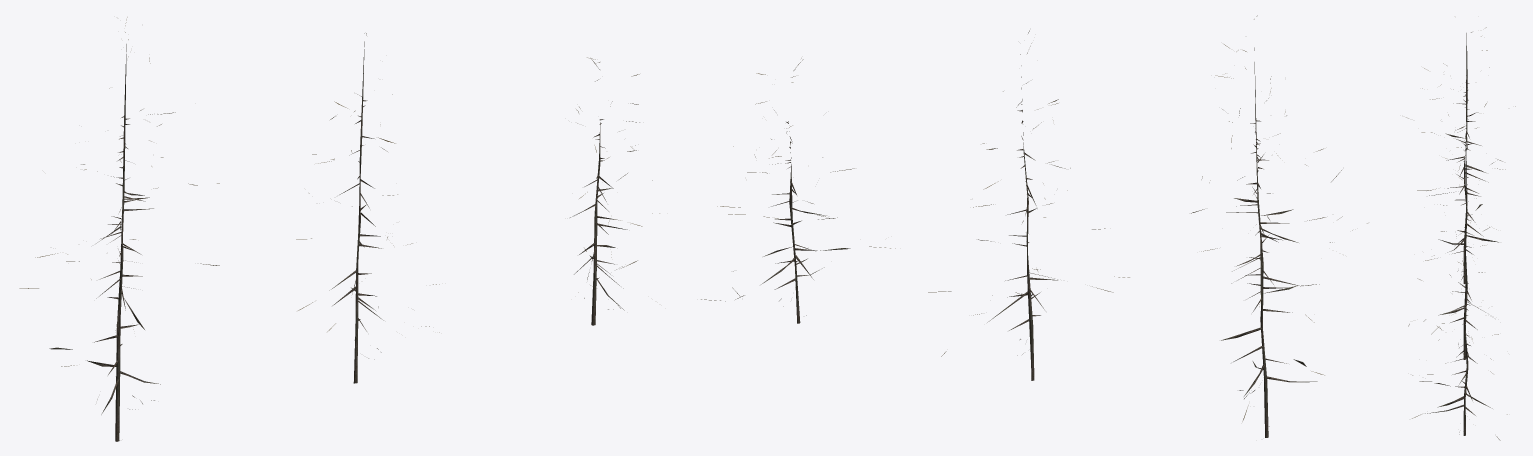
File: fir_sapling_medium.glb
3 renders of one model, left to right at view 1: azimuth 30°, elevation 25°; view 2: azimuth 150°, elevation 25°; view 3: azimuth 270°, elevation 25°, orthographic. The views are drawn at different scales.
Parts seen in each view (by area): view 1: fir_sapling_medium_a_LOD0; view 2: fir_sapling_medium_a_LOD0; view 3: fir_sapling_medium_a_LOD0.
Part boxes in pixels (x1=…): fir_sapling_medium_a_LOD0: x1=19, y1=17, x2=659, y2=441; fir_sapling_medium_a_LOD0: x1=701, y1=15, x2=1367, y2=437; fir_sapling_medium_a_LOD0: x1=1406, y1=27, x2=1515, y2=440.
Bounding box in the file's own units: 13.34 × 8.51 × 3.35.
3 materials, 3 textured.
